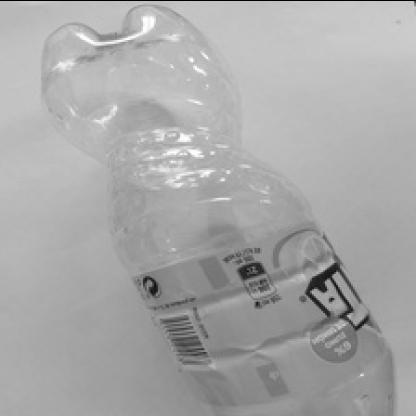plastic_bottles: (38, 7, 394, 416)
